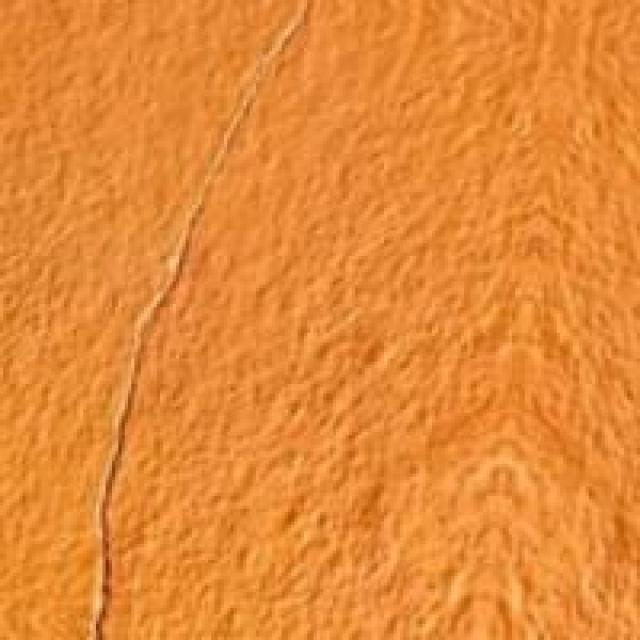Crack: (39, 0, 330, 637)
